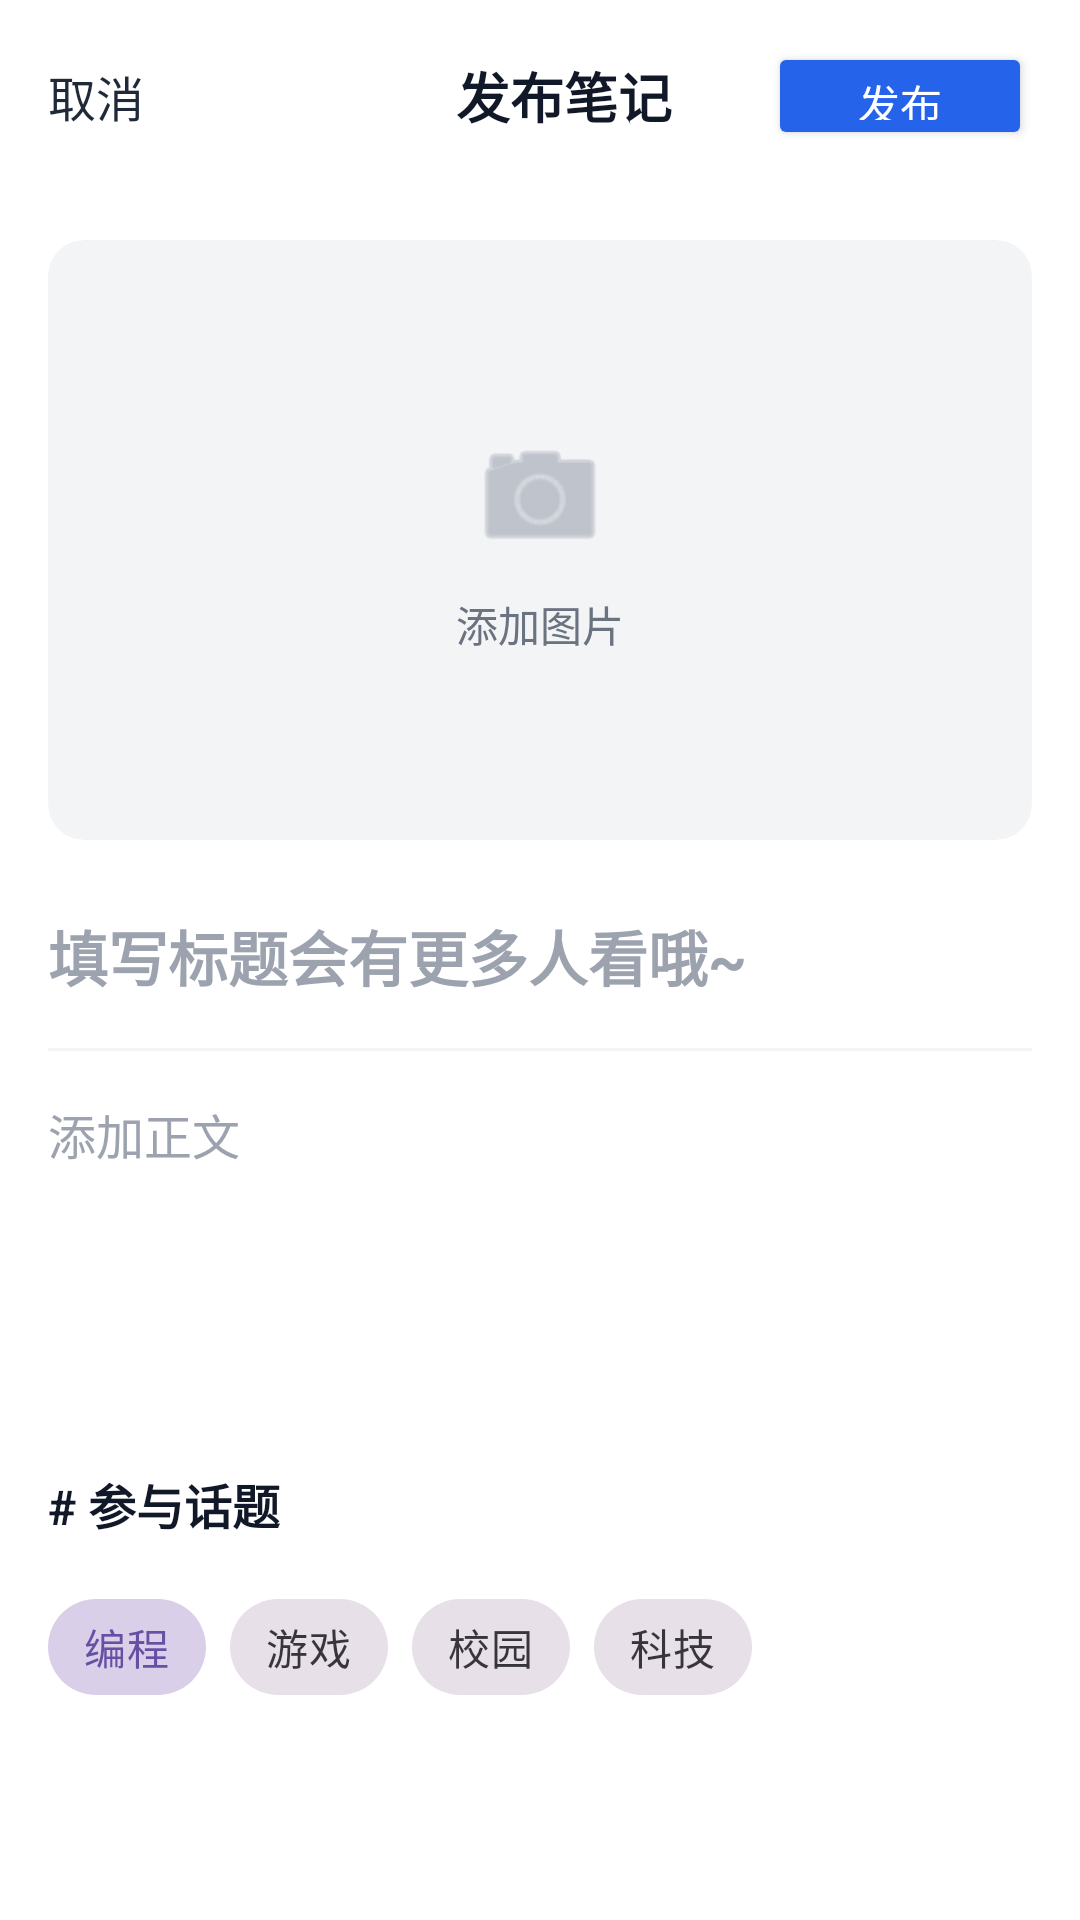

Screen size 1080x1920. Icon name, then its box in pixels as region(x1, y1, x2, y2):
camera: region(485, 451, 595, 538)
